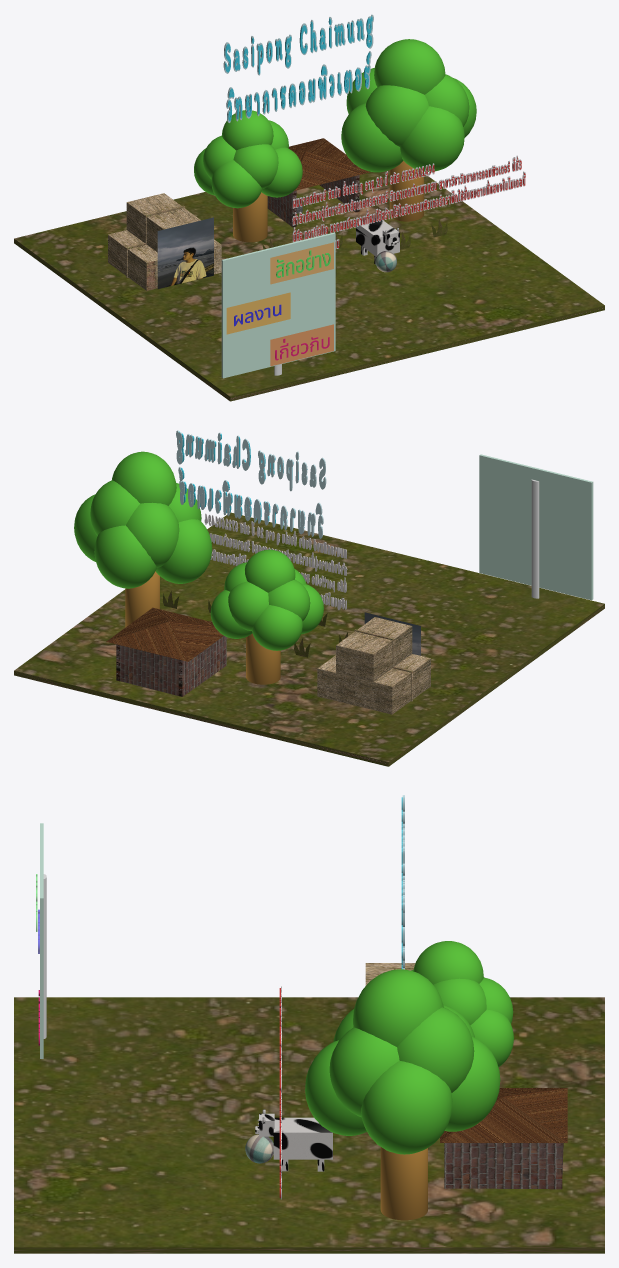
The picture shows the model from 3 angles, top to bottom: view 1: azimuth 30°, elevation 25°; view 2: azimuth 150°, elevation 25°; view 3: azimuth 270°, elevation 25°; orthographic projection. The views are drawn at different scales.
Parts seen in each view (by area): view 1: Cube, Cylinder.001, Plane.011, Sphere.005, Text.006, Plane.001, Text, Text.002, Pooh, Text.001, Plane.010, Plane.013 (+7 smaller); view 2: Cube, Cylinder.001, Plane.011, Sphere.005, Plane.001, Text.001, Plane.010, Text.006, Plane.009, Plane.008, Cylinder.002, Text (+3 smaller); view 3: Cube, Cylinder.001, Sphere.005, Plane.007, Plane.010, Cylinder, Cylinder.004, Plane.011, Sphere, Cylinder.003.
Boxes of the visible parts, <box> form: Cube: <box>14,170,604,401</box>; Cylinder.001: <box>341,39,476,172</box>; Plane.011: <box>221,232,335,378</box>; Sphere.005: <box>194,110,302,208</box>; Text.006: <box>292,155,525,248</box>; Plane.001: <box>108,193,221,290</box>; Text: <box>225,16,372,120</box>; Text.002: <box>293,157,525,248</box>; Pooh: <box>157,217,213,288</box>; Text.001: <box>223,14,373,122</box>; Plane.010: <box>288,138,369,190</box>; Plane.013: <box>226,292,290,334</box>; Cube: <box>14,512,604,766</box>; Cylinder.001: <box>74,451,212,588</box>; Plane.011: <box>479,454,593,600</box>; Sphere.005: <box>210,549,323,650</box>; Plane.001: <box>317,617,430,714</box>; Text.001: <box>176,430,326,538</box>; Plane.010: <box>106,607,223,661</box>; Text.006: <box>204,513,347,610</box>; Plane.009: <box>120,645,178,695</box>; Plane.008: <box>178,636,226,696</box>; Cylinder.002: <box>246,633,280,684</box>; Text: <box>179,431,314,528</box>; Cube: <box>14,997,604,1253</box>; Cylinder.001: <box>305,969,500,1154</box>; Sphere.005: <box>411,941,513,1067</box>; Plane.007: <box>444,1143,562,1189</box>; Plane.010: <box>440,1088,567,1142</box>; Cylinder: <box>380,1147,427,1220</box>; Cylinder.004: <box>255,1109,332,1171</box>; Plane.011: <box>40,823,43,1058</box>; Sphere: <box>245,1134,273,1163</box>; Cylinder.003: <box>43,874,46,1038</box>.
Bounding box in the file's own units: 0.1049 × 0.0573 × 0.1.
Materials: 22 (8 with a texture image).
